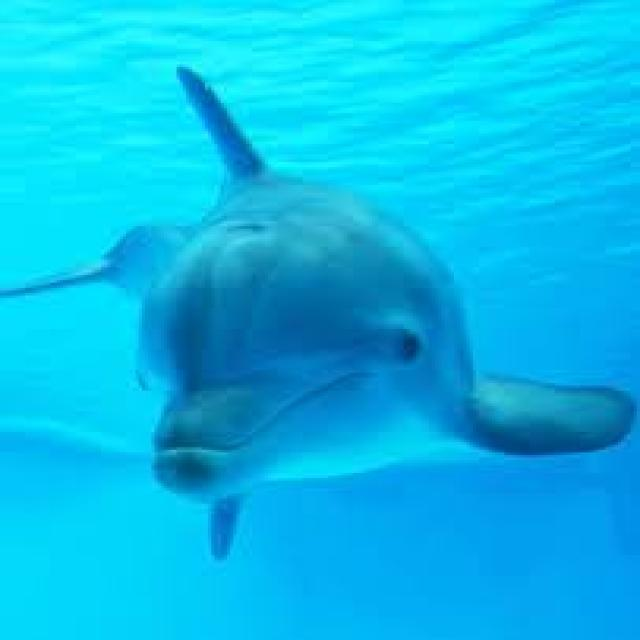dolphin: (9, 59, 634, 571)
